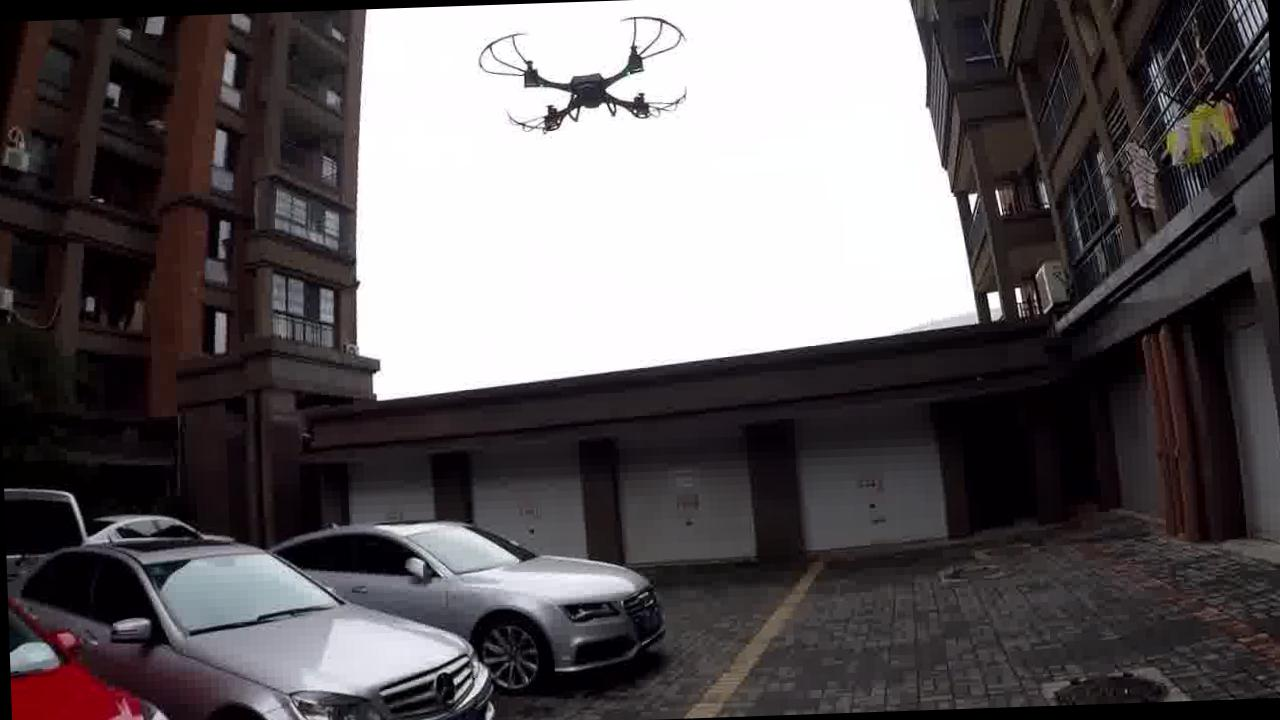drone: (473, 0, 753, 140)
